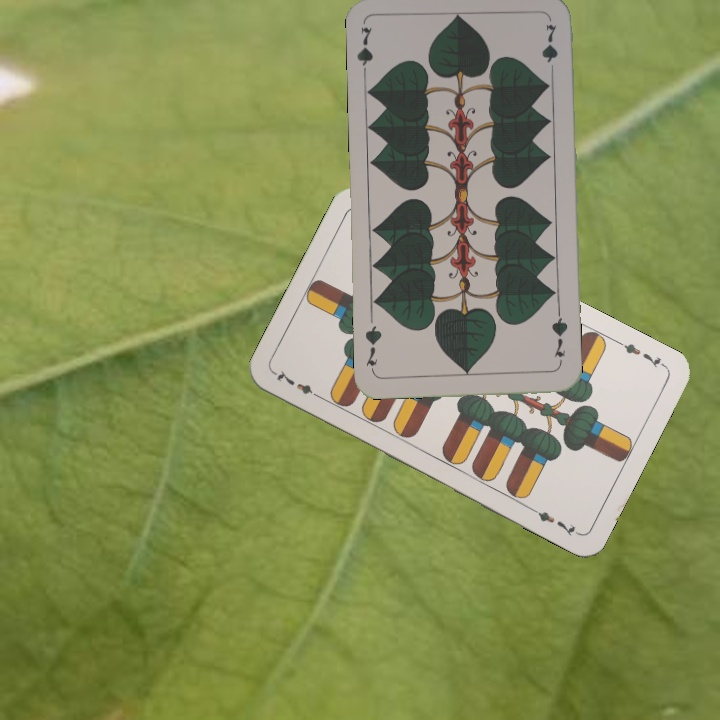E7: (271, 366, 325, 402), (613, 336, 668, 371)
G7: (353, 24, 375, 83), (548, 309, 571, 359)
